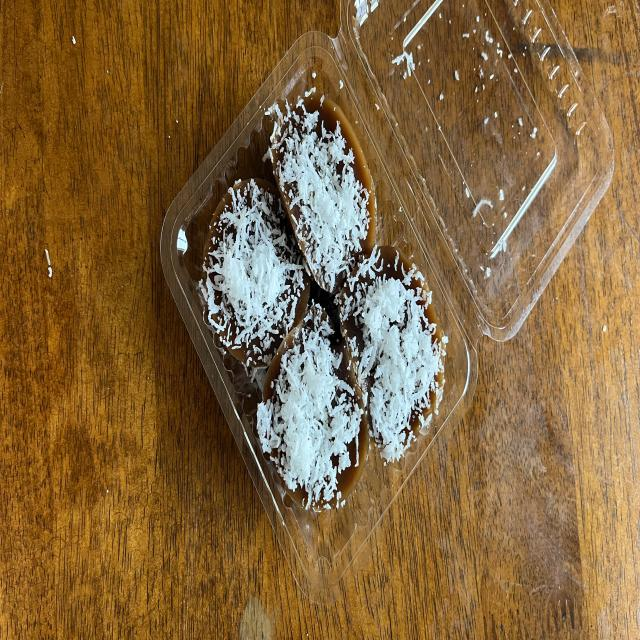Kuih lompang: (256, 302, 369, 511), (339, 247, 448, 462), (268, 93, 375, 293), (200, 178, 310, 367)
